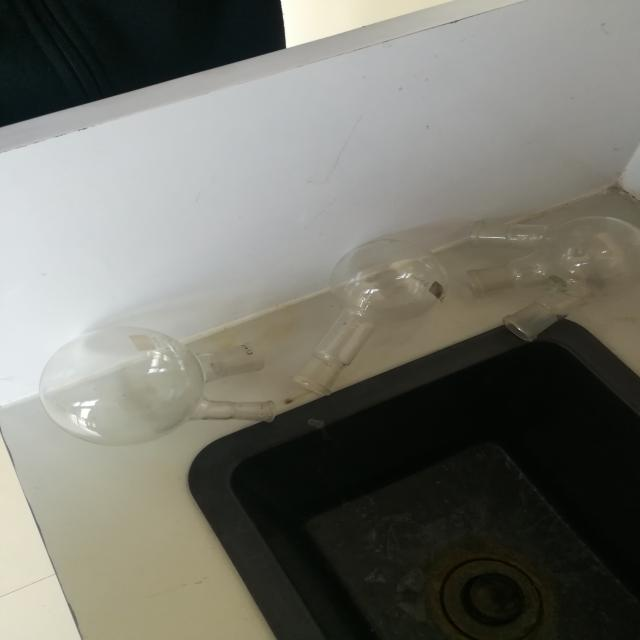Round_Bottom_Flask_Borosilicate_Glass_1_Neck: (447, 171, 640, 369), (293, 228, 457, 414)
Round_Bottom_Flask_Borosilicate_Glass_2_Neck: (18, 296, 288, 478)
